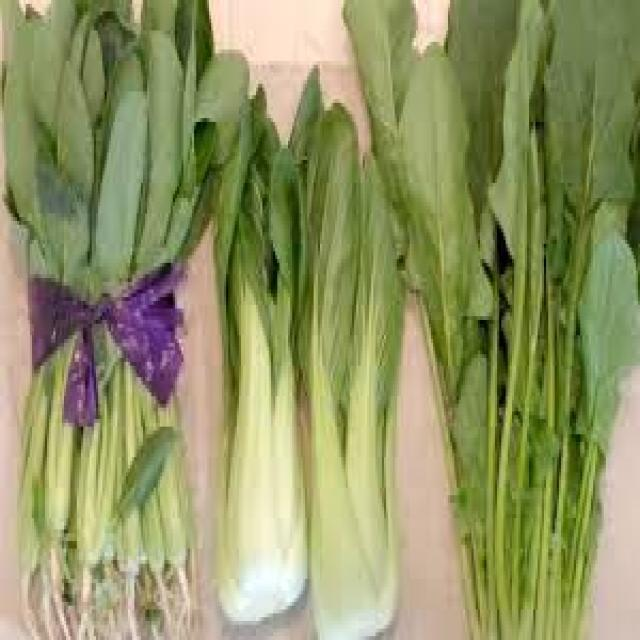organic waste: (341, 0, 636, 636), (0, 0, 198, 632), (298, 84, 396, 636), (216, 88, 307, 636)
